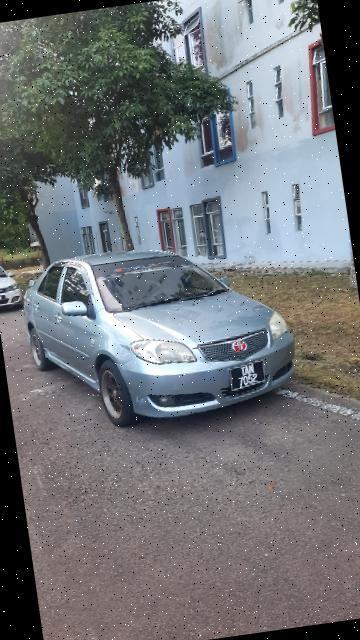License_Plate: (227, 360, 271, 393)
car: (15, 228, 304, 440)
